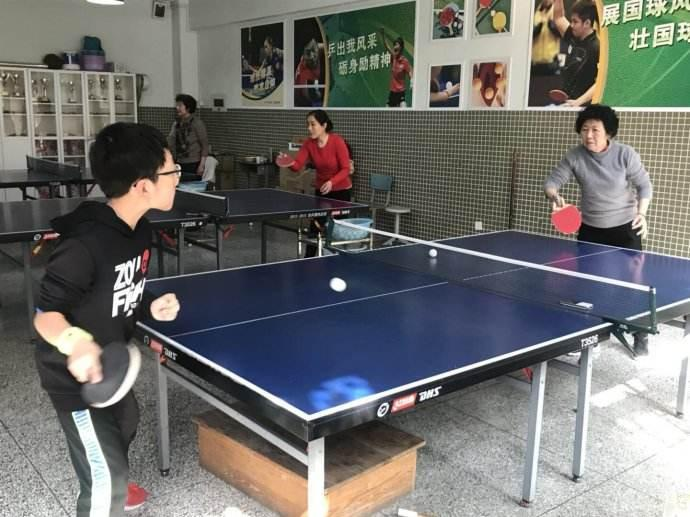ball: (326, 272, 347, 294), (426, 246, 438, 259)
